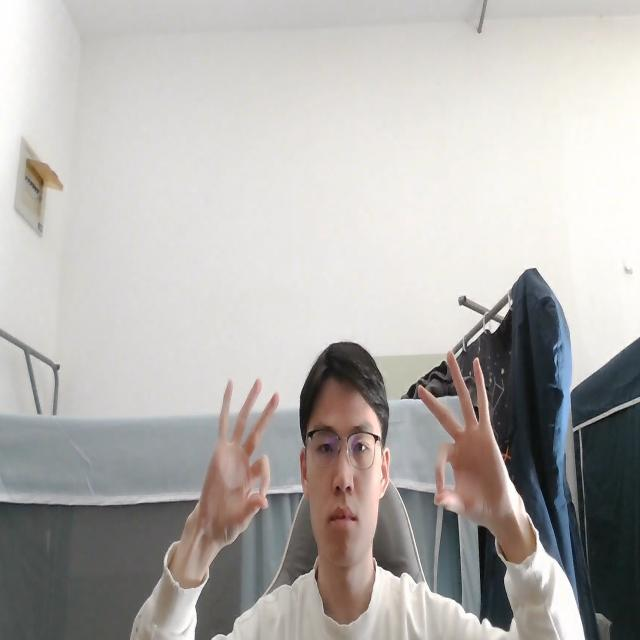ok: (414, 346, 522, 534), (187, 374, 279, 558)
